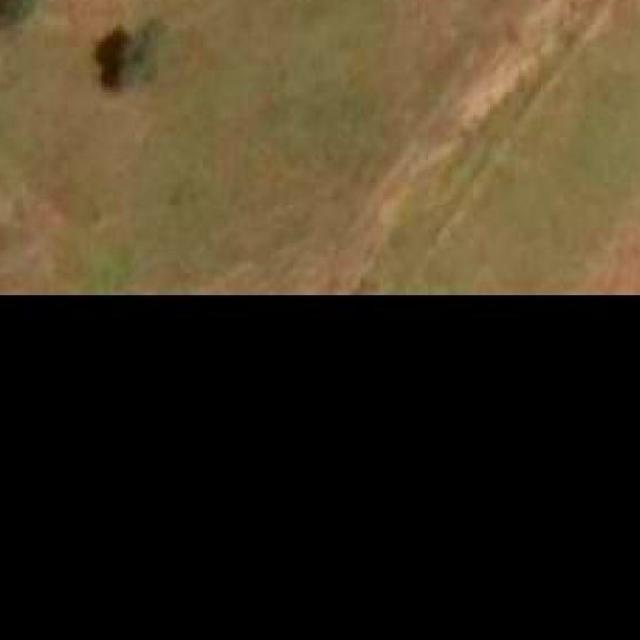Tree: (104, 25, 158, 90), (0, 0, 59, 25)
